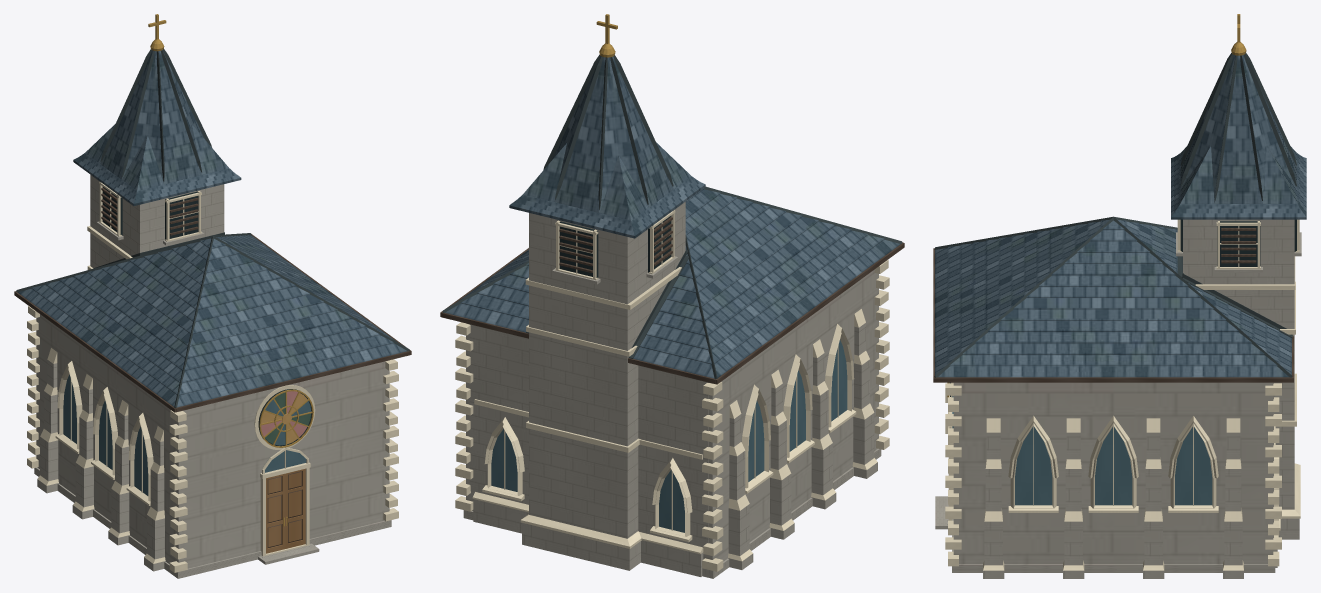
File: church.glb
The picture shows the model from 3 angles, left to right: view 1: azimuth 30°, elevation 25°; view 2: azimuth 150°, elevation 25°; view 3: azimuth 270°, elevation 25°; orthographic projection. The views are drawn at different scales.
Visible parts, largest first — view 1: ChurchBody; view 2: ChurchBody; view 3: ChurchBody.
Boxes of the visible parts, x1=… form: ChurchBody: x1=14, y1=14, x2=411, y2=578; ChurchBody: x1=440, y1=14, x2=904, y2=578; ChurchBody: x1=933, y1=14, x2=1306, y2=578.
Size of the model in its own units: 11.24 by 20.16 by 13.65.
1 material, 1 textured.
